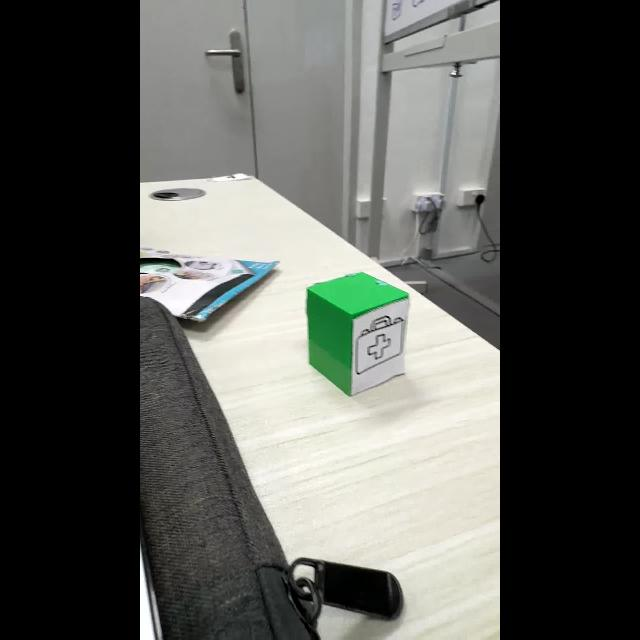Medkit: (355, 315, 405, 378)
